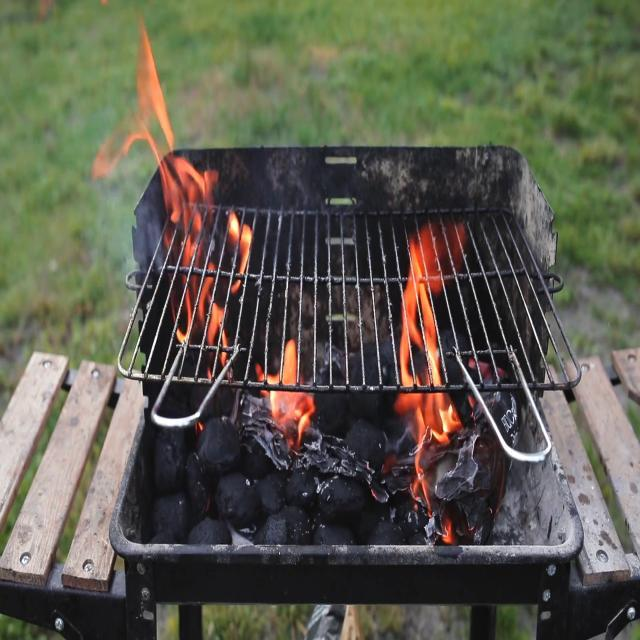Fire: (130, 36, 314, 446), (388, 228, 470, 492)
